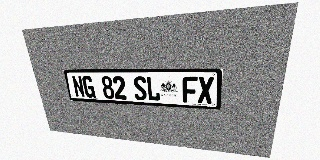2: (112, 76, 127, 99)
8: (101, 76, 115, 99)
F: (182, 76, 198, 103)
G: (82, 76, 96, 98)
L: (146, 76, 160, 101)
N: (71, 76, 85, 97)
S: (133, 76, 147, 100)
X: (198, 77, 214, 104)
